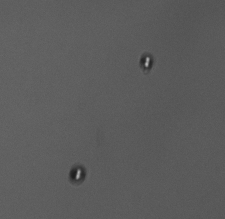Living Cell: (67, 162, 88, 185), (137, 53, 156, 72)
